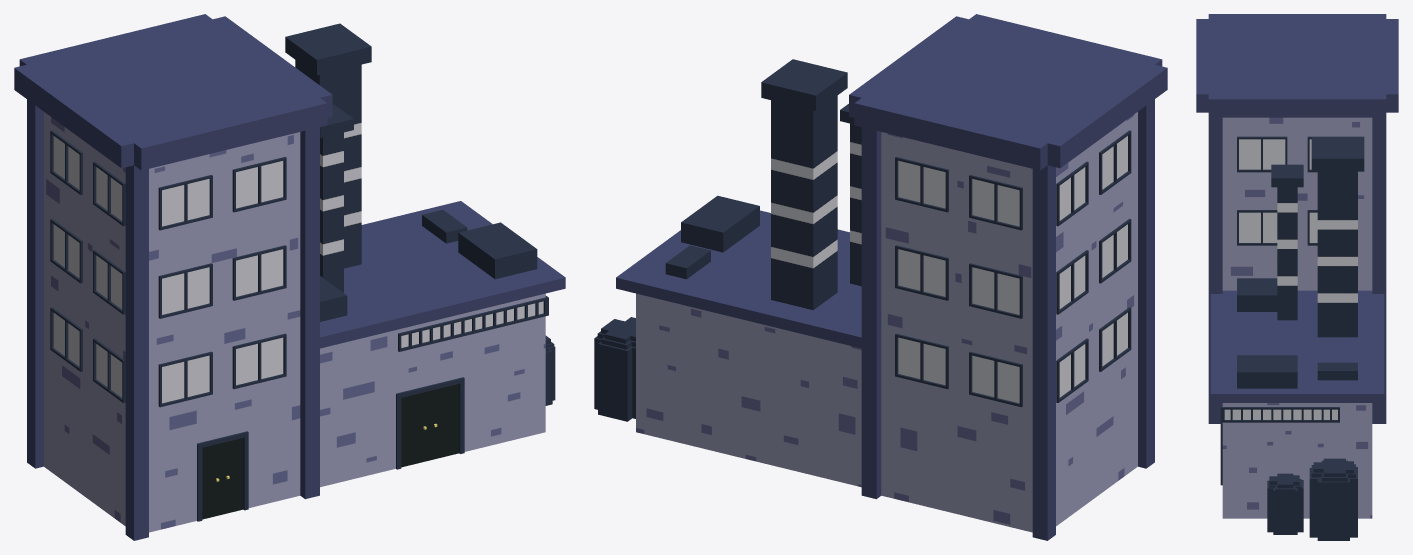
The model's file is building_test6.fbx.
The picture shows the model from 3 angles, left to right: view 1: azimuth 30°, elevation 25°; view 2: azimuth 150°, elevation 25°; view 3: azimuth 270°, elevation 25°; orthographic projection. The views are drawn at different scales.
Parts seen in each view (by area): view 1: Object; view 2: Object; view 3: Object.
Part boxes in pixels (x1=…): Object: x1=14, y1=14, x2=565, y2=540; Object: x1=594, y1=14, x2=1167, y2=540; Object: x1=1196, y1=14, x2=1398, y2=540.
Size of the model in its own units: 231 by 180 by 100.
